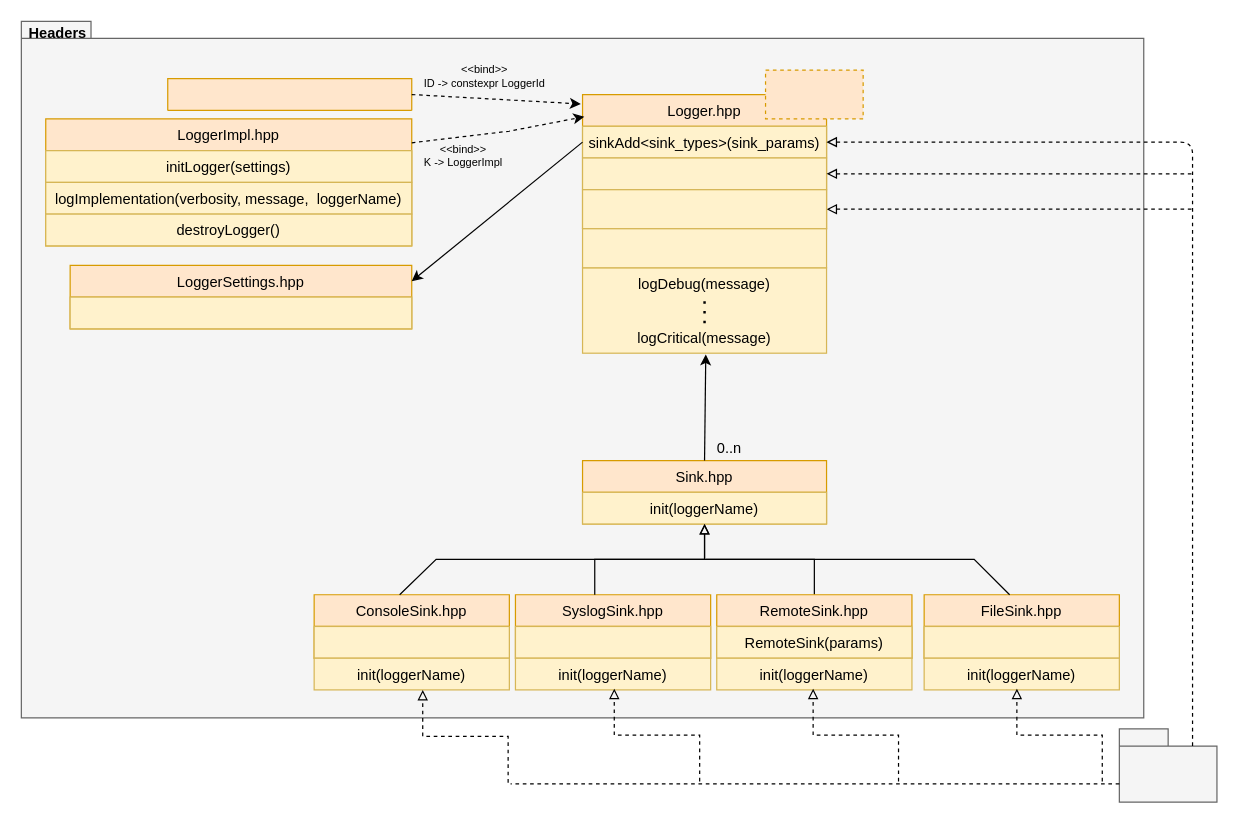
This 1238x824 diagram has some shape labels left out. Here are the shapes that lost their labels. From the top down, the centre of each, then its label:
At [289,93]: "LoggerId.hpp".
At [813,94]: "ID: LoggerId K: typename".
At [704,173]: "init(logger_settings)".
At [704,208]: "destroy()".
At [704,248]: "log(verbosity, message)".
At [240,312]: "LoggerSettings(nameOfLogger, defaultVerbosity)".
At [411,641]: "ConsoleSink(params)".
At [612,641]: "SyslogSink(params)".
At [1021,641]: "FileSink(params)".
At [1167,765]: ".so".
